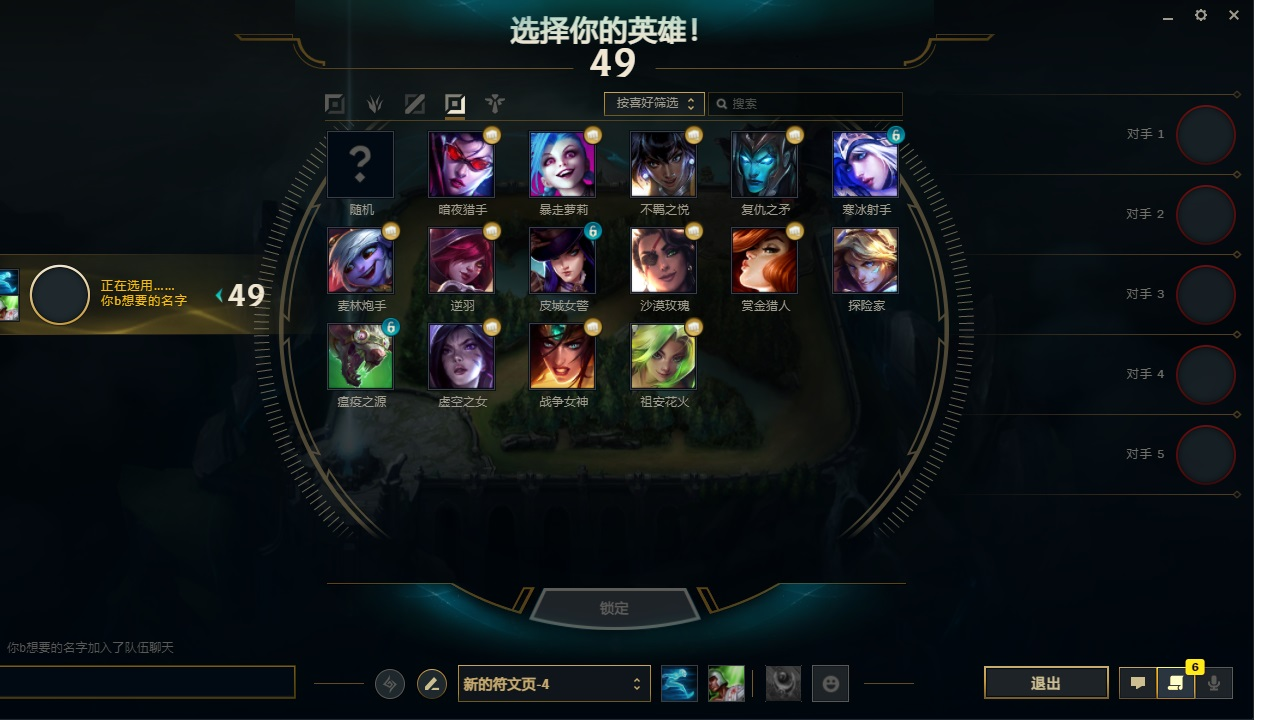HBSS: (827, 155, 910, 197)
HSSD: (514, 569, 711, 634)
JKS: (526, 155, 602, 197)
NJ: (524, 244, 607, 292)
NQ: (722, 246, 805, 293)
XDXL: (439, 82, 476, 119)
XP: (324, 250, 409, 292)
